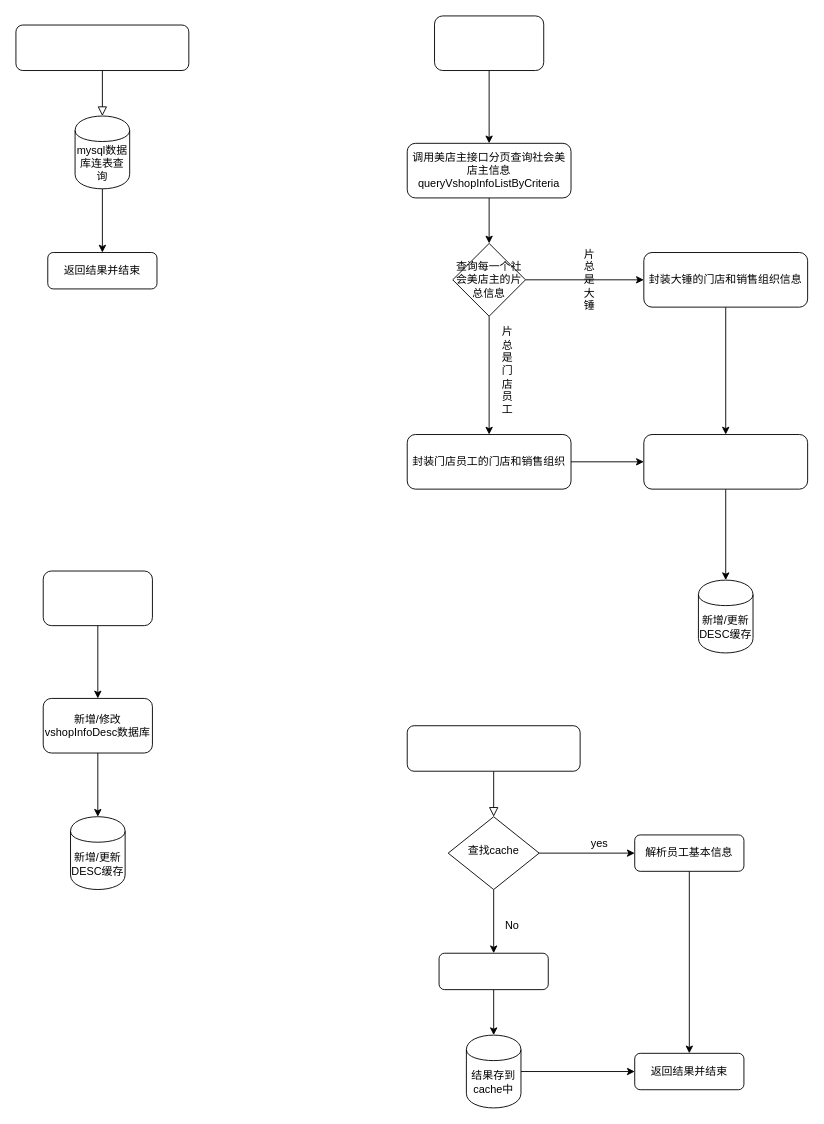
Image size: 824x1124. Some labels were removed from this diagram. The shapes that lost their labels are listed below. From the top down, each one's centre as x and y in pixels, then its label:
At (x=102, y=47): "vshopInfo和desc联合查询".
At (x=489, y=43): "同步社会美店主的门店".
At (x=725, y=461): "新增/更新DESC数据库".
At (x=97, y=598): "新增/修改vshopInfoDesc数据".
At (x=493, y=748): "根据userID查找vshopInfoDesc数据".
At (x=493, y=971): "调用mysql数据库查询".
